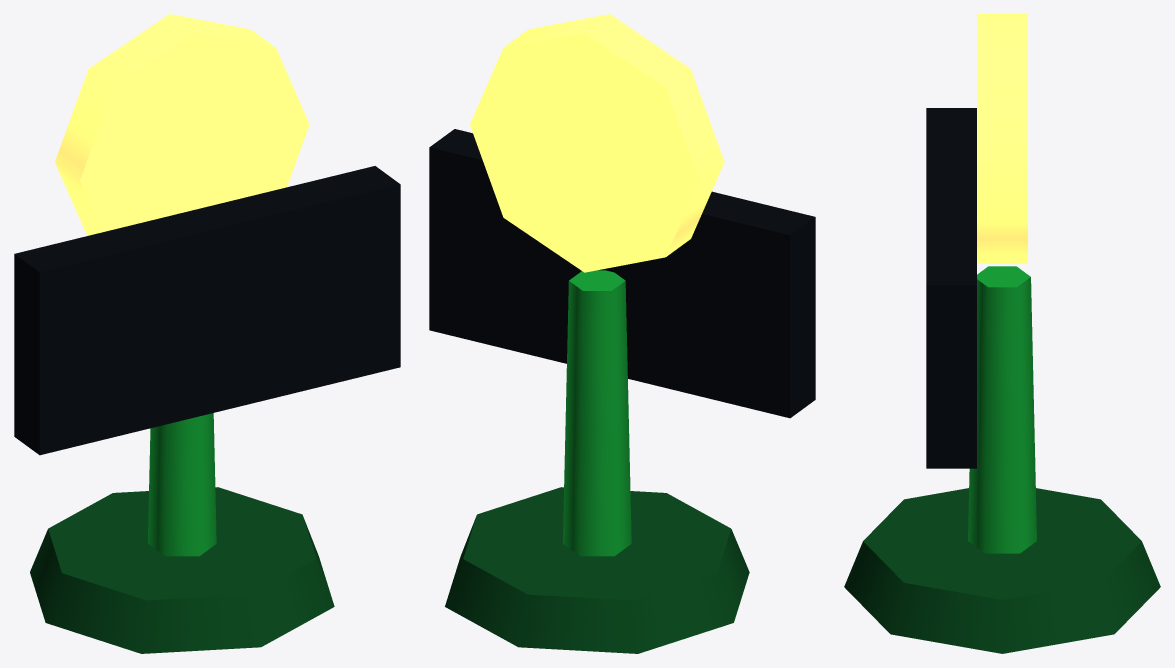
File: pickup_marker.glb
The picture shows the model from 3 angles, left to right: view 1: azimuth 30°, elevation 25°; view 2: azimuth 150°, elevation 25°; view 3: azimuth 270°, elevation 25°; orthographic projection.
Parts seen in each view (by area): view 1: PickupMarker2; view 2: PickupMarker2; view 3: PickupMarker2.
Part boxes in pixels (left/top/right/bottom): PickupMarker2: left=14, top=14, right=400, bottom=653; PickupMarker2: left=429, top=14, right=815, bottom=653; PickupMarker2: left=844, top=14, right=1160, bottom=653.
Bounding box in the file's own units: 0.66 × 0.99 × 0.5.
